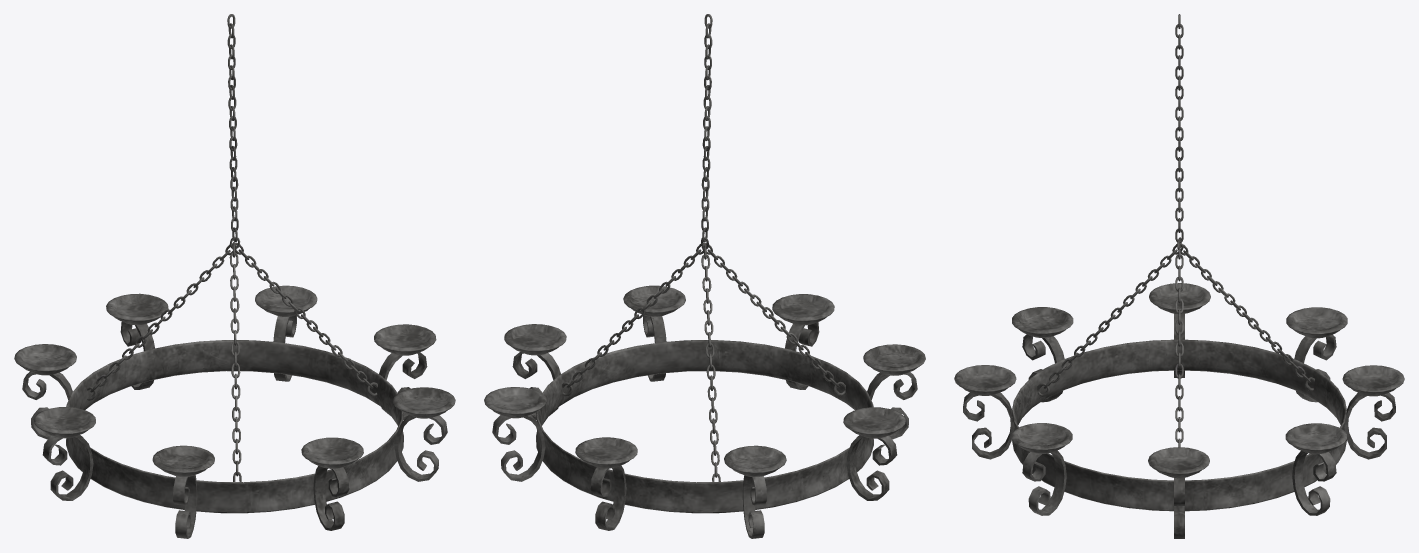
Rendered from SM_Chandelier.glb.
3 views of the same model, side by side, from view 1: azimuth 30°, elevation 25°; view 2: azimuth 150°, elevation 25°; view 3: azimuth 270°, elevation 25° (orthographic).
Parts seen in each view (by area): view 1: SM_Chandelier; view 2: SM_Chandelier; view 3: SM_Chandelier.
Boxes of the visible parts, bbox=[...] form: SM_Chandelier: bbox=[14, 14, 455, 538]; SM_Chandelier: bbox=[484, 14, 925, 538]; SM_Chandelier: bbox=[954, 14, 1404, 538].
Bounding box in the file's own units: 1.32 × 1.43 × 1.32.
Materials: 1 (1 with a texture image).
